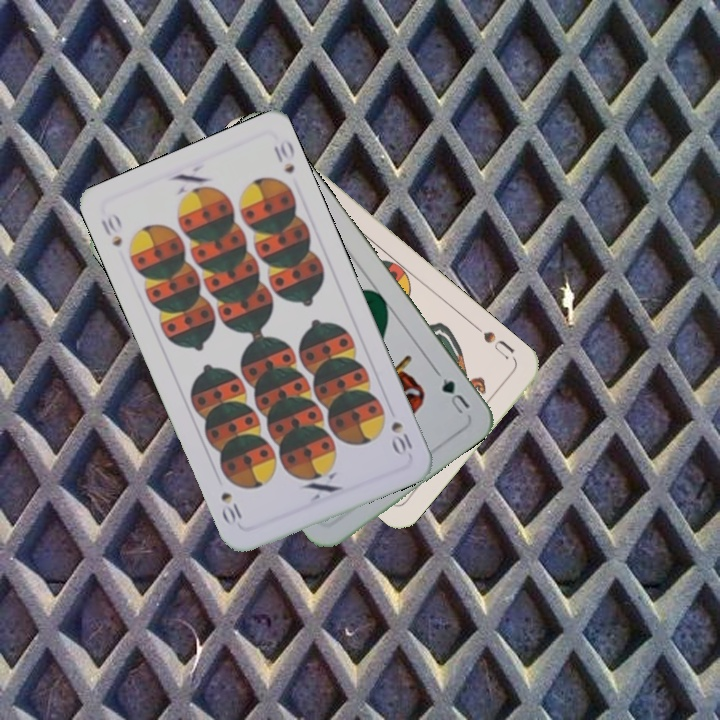GU: (437, 374, 473, 418)
S10: (387, 417, 417, 458), (97, 209, 125, 250)
SU: (469, 320, 518, 362)
